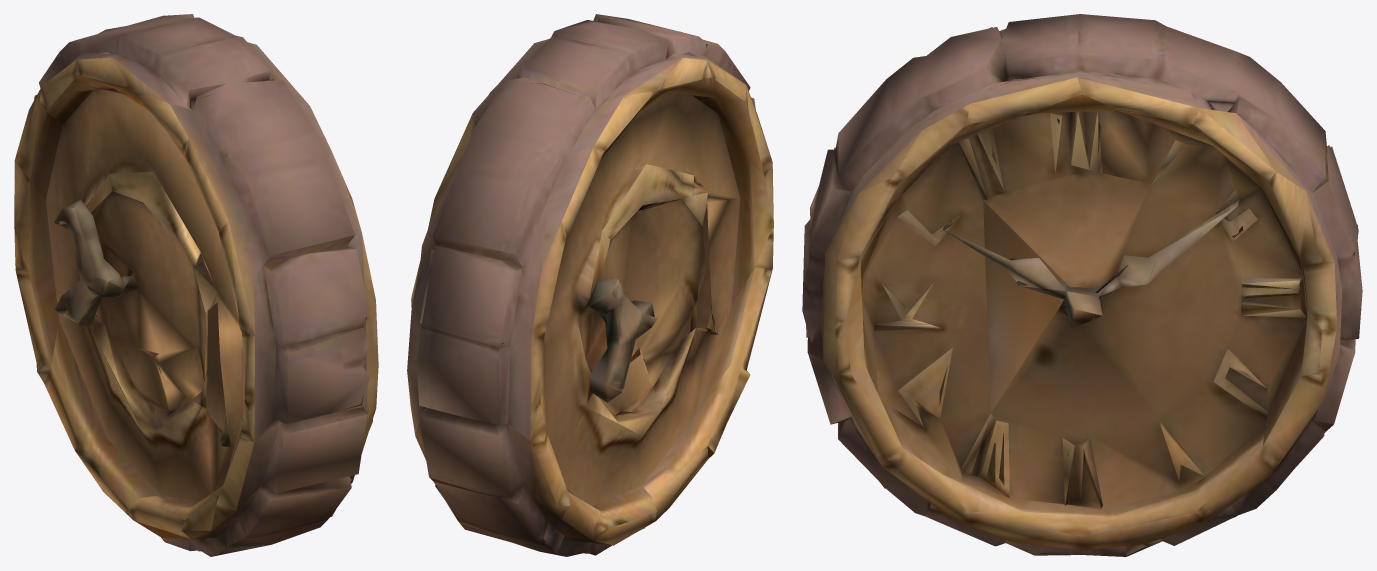
File: lg-giant-clock-face.glb
3 views of the same model, side by side, from view 1: azimuth 30°, elevation 25°; view 2: azimuth 150°, elevation 25°; view 3: azimuth 270°, elevation 25° (orthographic). The views are drawn at different scales.
Visible parts, largest first — view 1: geometry_0; view 2: geometry_0; view 3: geometry_0.
Boxes of the visible parts, left/top/right/bottom form: geometry_0: left=14, top=14, right=378, bottom=556; geometry_0: left=407, top=14, right=773, bottom=556; geometry_0: left=802, top=14, right=1362, bottom=556.
Bounding box in the file's own units: 0.3512 × 1 × 0.994.
1 material, 1 textured.
